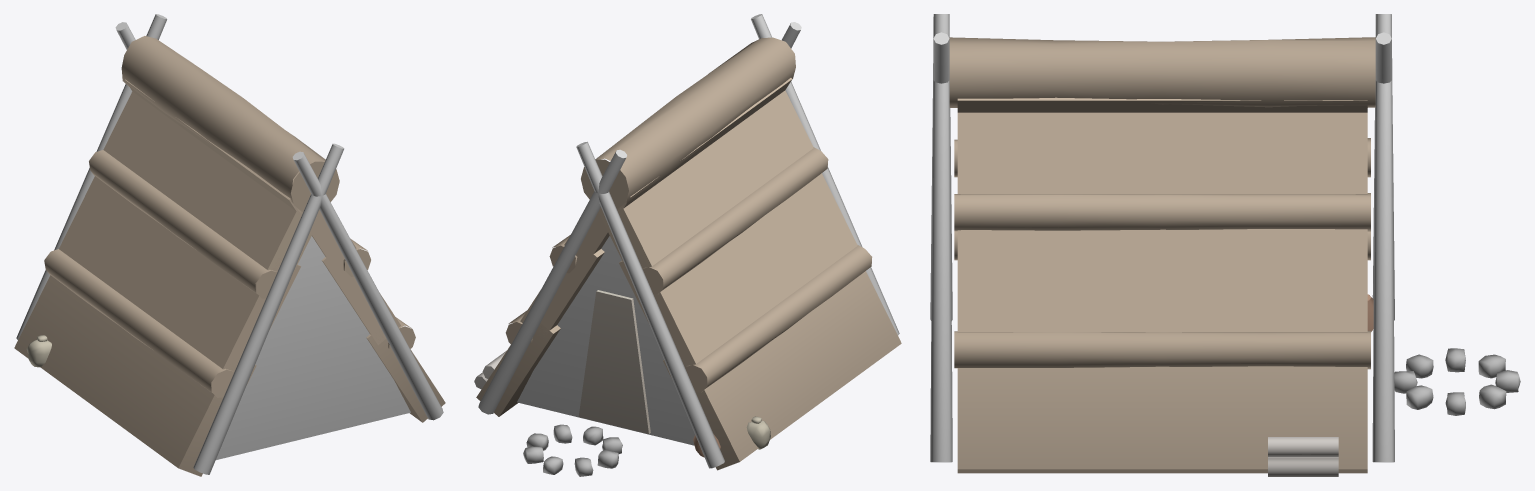
File: hw_shelter.glb
3 views of the same model, side by side, from view 1: azimuth 30°, elevation 25°; view 2: azimuth 150°, elevation 25°; view 3: azimuth 270°, elevation 25° (orthographic). The views are drawn at different scales.
Parts seen in each view (by area): view 1: Building; view 2: Building; view 3: Building.
Boxes of the visible parts, x1,y1,x2,y2 form: Building: [14, 14, 445, 476]; Building: [474, 14, 901, 476]; Building: [930, 14, 1520, 476].
Bounding box in the file's own units: 2.58 × 2.62 × 3.67.
